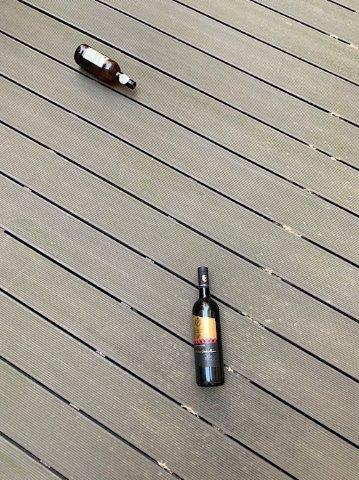botolkaca: (191, 267, 225, 387), (75, 44, 137, 91)
